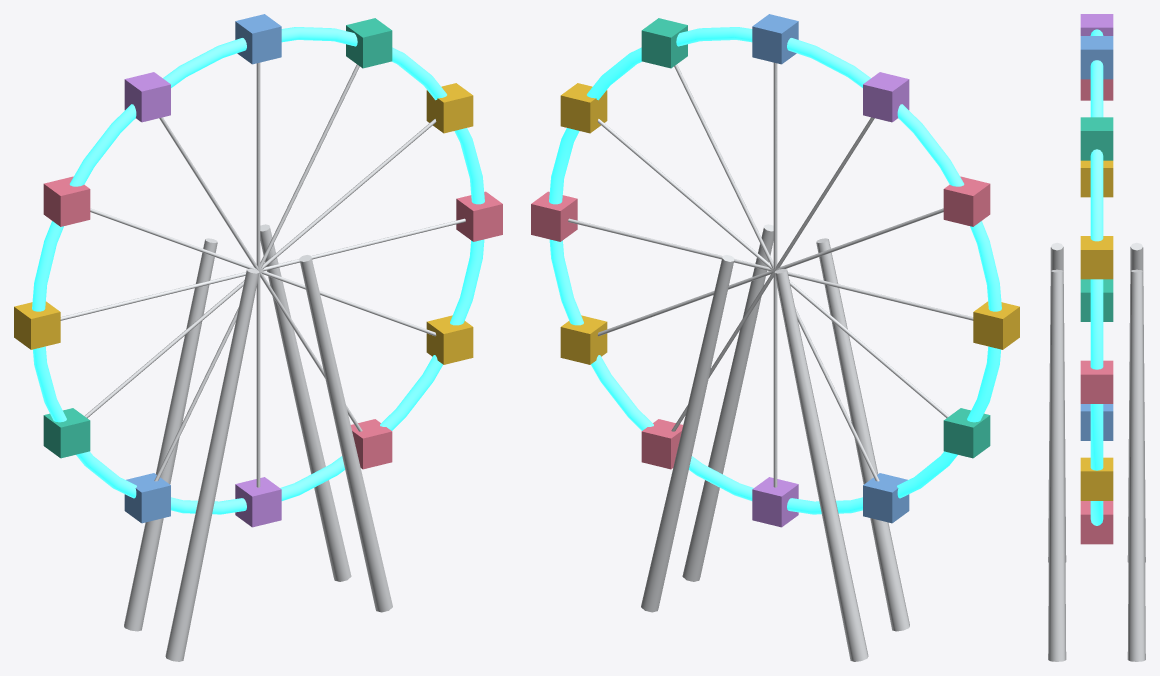
File: ferris_wheel.glb
3 renders of one model, left to right at view 1: azimuth 30°, elevation 25°; view 2: azimuth 150°, elevation 25°; view 3: azimuth 270°, elevation 25°, orthographic. The views are drawn at different scales.
Visible parts, largest first — view 1: rim, legA_1, legB_1, legA_0, legB_0, spoke_0, cabin_5, cabin_4, cabin_7, cabin_11, cabin_6, cabin_2 (+14 smaller); view 2: rim, legA_0, legB_0, legA_1, legB_1, spoke_0, cabin_5, cabin_4, cabin_7, cabin_11, cabin_6, cabin_2 (+14 smaller); view 3: legB_0, legB_1, rim, cabin_1, cabin_0, cabin_2, cabin_11, cabin_3, cabin_10, legA_0, legA_1, cabin_7 (+4 smaller).
Part boxes in pixels (x1,y1,x2,y2): rim: (32,27,484,514); legA_1: (165,269,259,661); legB_1: (299,255,392,612); legA_0: (124,238,217,631); legB_0: (260,224,351,581); spoke_0: (256,62,260,487); cabin_5: (43,176,90,226); cabin_4: (124,72,170,122); cabin_7: (43,408,90,458); cabin_11: (426,315,473,364); cabin_6: (14,301,60,349); cabin_2: (346,18,392,68); rim: (549,27,1001,514); legA_0: (774,269,868,661); legB_0: (641,255,734,612); legA_1: (816,238,909,631); legB_1: (682,224,773,581); spoke_0: (773,62,777,487); cabin_5: (943,176,990,226); cabin_4: (863,72,909,122); cabin_7: (943,408,990,458); cabin_11: (560,315,607,364); cabin_6: (973,301,1019,349); cabin_2: (641,18,687,68); legB_0: (1127,269,1145,661); legB_1: (1048,269,1066,661); rim: (1090,29,1103,525); cabin_1: (1080,236,1113,279); cabin_0: (1080,360,1113,403); cabin_2: (1080,117,1113,160); cabin_11: (1080,457,1113,500); cabin_3: (1080,36,1113,79); cabin_10: (1080,501,1113,544); legA_0: (1127,242,1145,562); legA_1: (1048,242,1066,562); cabin_7: (1080,279,1113,321).
Bounding box in the file's own units: 28.8 × 34.74 × 5.4.
